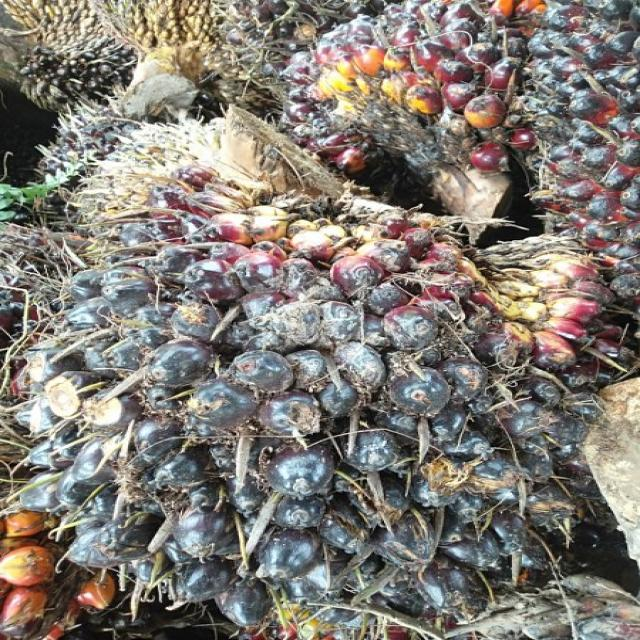fraksi 00: (21, 169, 592, 607)
